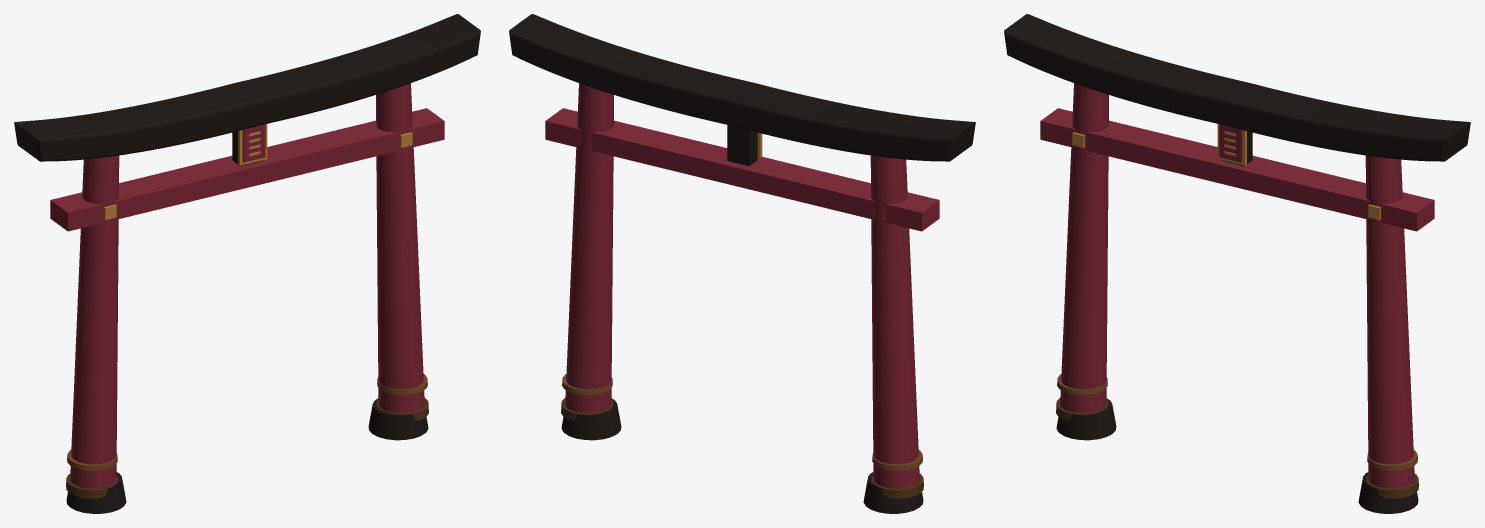
File: mia-torii.glb
3 views of the same model, side by side, from view 1: azimuth 30°, elevation 25°; view 2: azimuth 150°, elevation 25°; view 3: azimuth 330°, elevation 25° (orthographic).
Visible parts, largest first — view 1: Body_velvet, Body_black, Body_brass, Body_wood, Body_rust; view 2: Body_velvet, Body_black, Body_wood, Body_rust; view 3: Body_velvet, Body_black, Body_brass, Body_wood, Body_rust.
Part boxes in pixels (x1=…): Body_velvet: x1=50, y1=83, x2=444, y2=488; Body_black: x1=14, y1=14, x2=480, y2=513; Body_brass: x1=104, y1=124, x2=412, y2=220; Body_wood: x1=66, y1=398, x2=428, y2=498; Body_rust: x1=67, y1=374, x2=427, y2=470; Body_velvet: x1=545, y1=83, x2=939, y2=488; Body_black: x1=509, y1=14, x2=975, y2=513; Body_wood: x1=561, y1=398, x2=923, y2=498; Body_rust: x1=562, y1=374, x2=922, y2=470; Body_velvet: x1=1040, y1=83, x2=1434, y2=488; Body_black: x1=1004, y1=14, x2=1470, y2=513; Body_brass: x1=1072, y1=124, x2=1380, y2=220; Body_wood: x1=1056, y1=398, x2=1418, y2=498; Body_rust: x1=1057, y1=374, x2=1417, y2=470.
Bounding box in the file's own units: 4.41 × 3.68 × 0.518.
